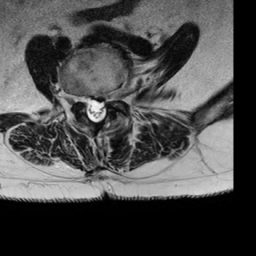CCS_normal: (93, 92, 99, 127)
LFS_normal: (107, 83, 116, 108)
LLS_normal: (100, 94, 107, 122)
RFS_stenosis: (77, 88, 85, 109)
RLS_normal: (85, 92, 93, 125)
